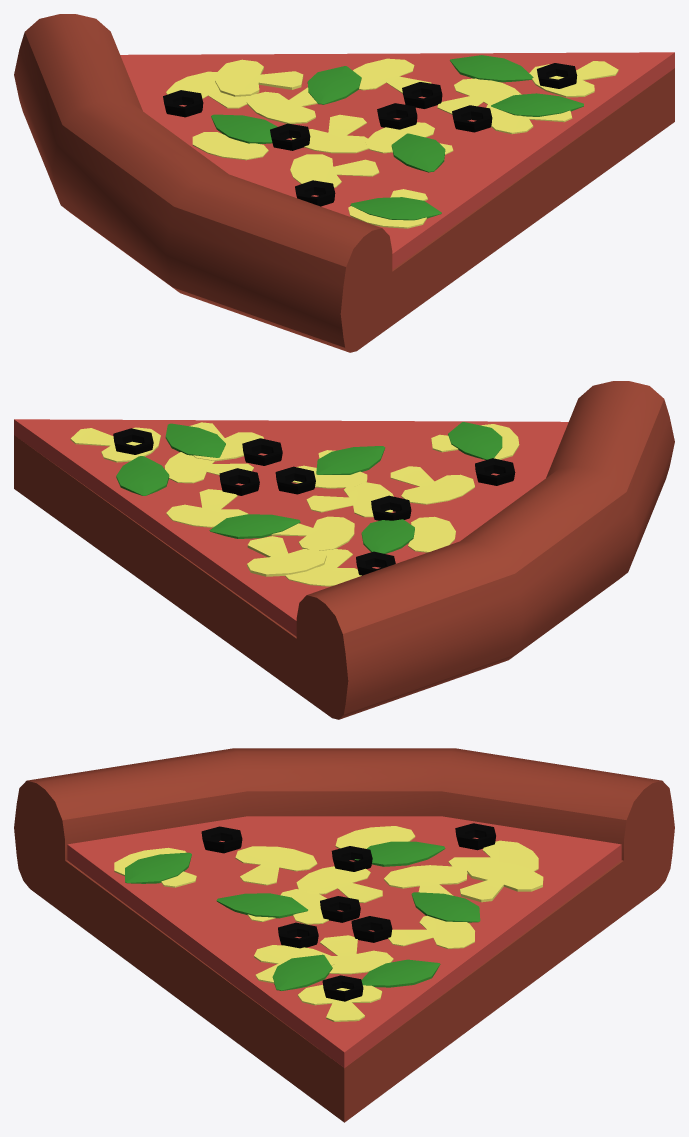
Rendered from Pizza 3.fbx.
3 renders of one model, top to bottom at view 1: azimuth 30°, elevation 25°; view 2: azimuth 150°, elevation 25°; view 3: azimuth 270°, elevation 25°, orthographic.
Parts seen in each view (by area): view 1: banh.020; view 2: banh.020; view 3: banh.020.
Part boxes in pixels (left/top/right/bottom): banh.020: left=14, top=14, right=674, bottom=352; banh.020: left=14, top=381, right=674, bottom=719; banh.020: left=14, top=748, right=674, bottom=1122.
Bounding box in the file's own units: 1.71 × 1.71 × 0.3167.
